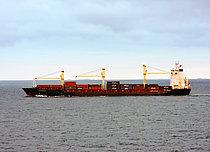Ship: (18, 60, 196, 101)
